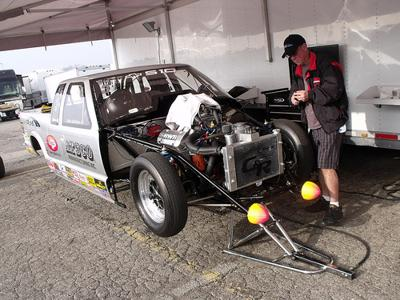person: (281, 33, 350, 225)
